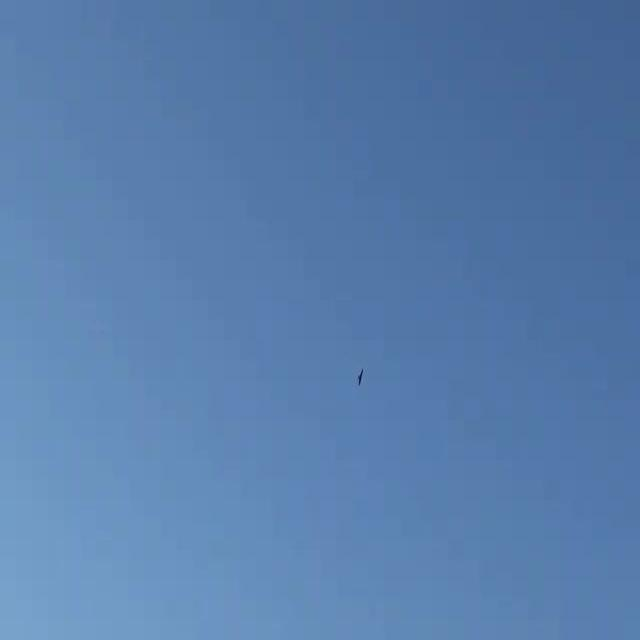bird: (349, 365, 370, 385)
